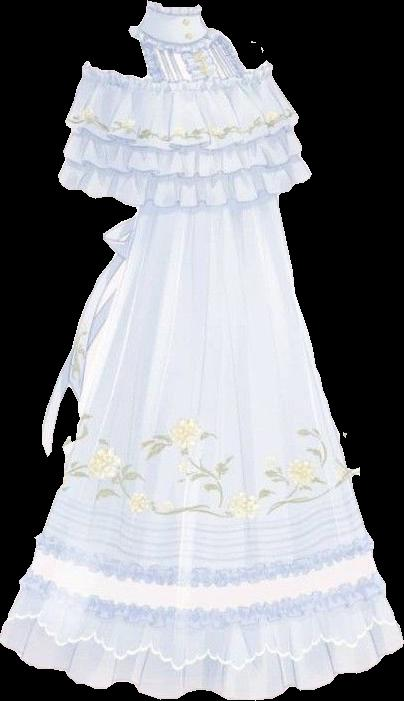Bodice: (58, 1, 311, 207)
Hemline: (0, 634, 403, 700)
Neckline: (83, 62, 269, 83), (134, 26, 211, 48), (146, 0, 201, 12)
Skirt: (0, 196, 403, 699)
Waistline: (62, 118, 301, 178), (56, 172, 312, 210)
